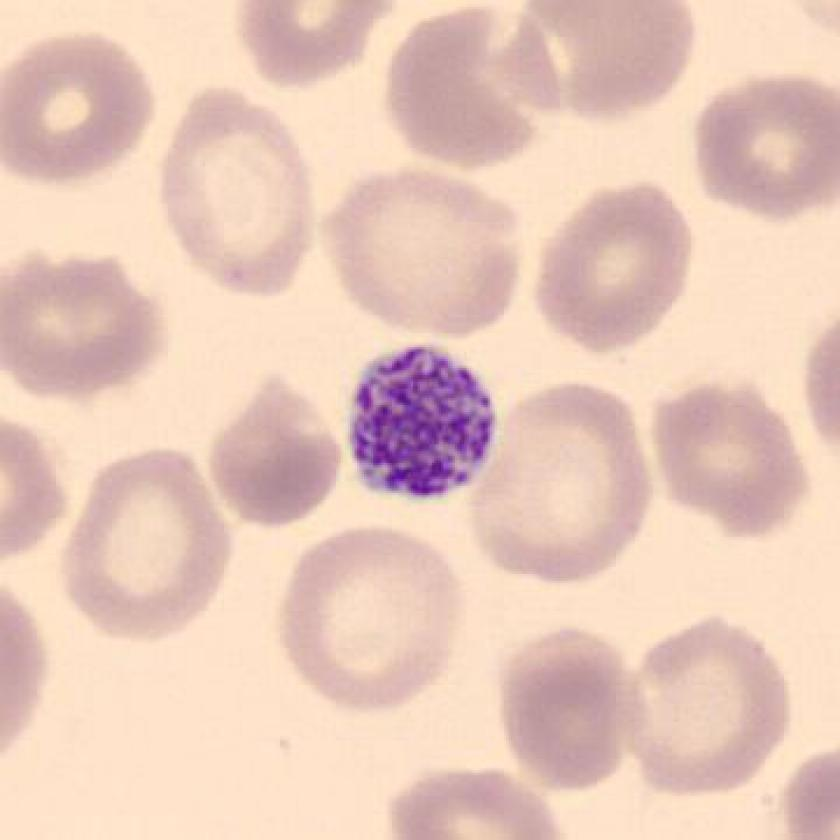platelets: (337, 334, 507, 515)
